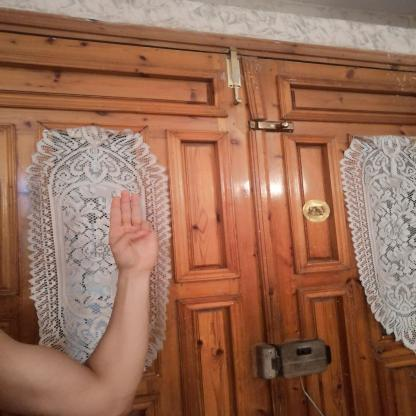THA: (96, 185, 169, 281)
